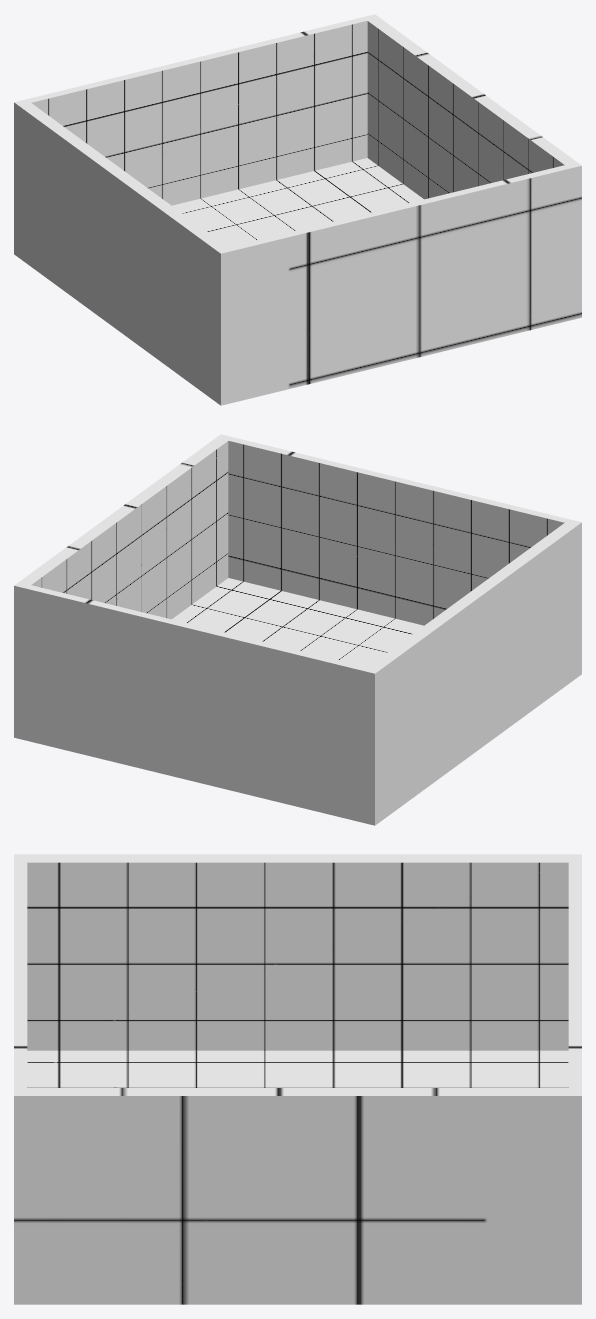
The model's file is tutorial_room.fbx.
3 renders of one model, top to bottom at view 1: azimuth 30°, elevation 25°; view 2: azimuth 150°, elevation 25°; view 3: azimuth 270°, elevation 25°, orthographic. The views are drawn at different scales.
Visible parts, largest first — view 1: land; view 2: land; view 3: land.
Boxes of the visible parts, bbox=[...] form: land: bbox=[14, 14, 581, 405]; land: bbox=[14, 434, 581, 825]; land: bbox=[14, 854, 581, 1304].
Size of the model in its own units: 34.6 by 13.92 by 34.34.
Materials: 1 (1 with a texture image).
